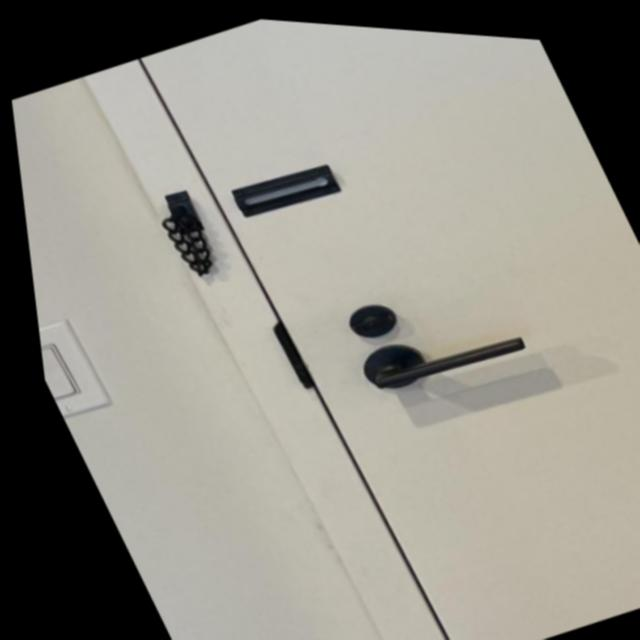door_handle: (328, 286, 537, 421)
